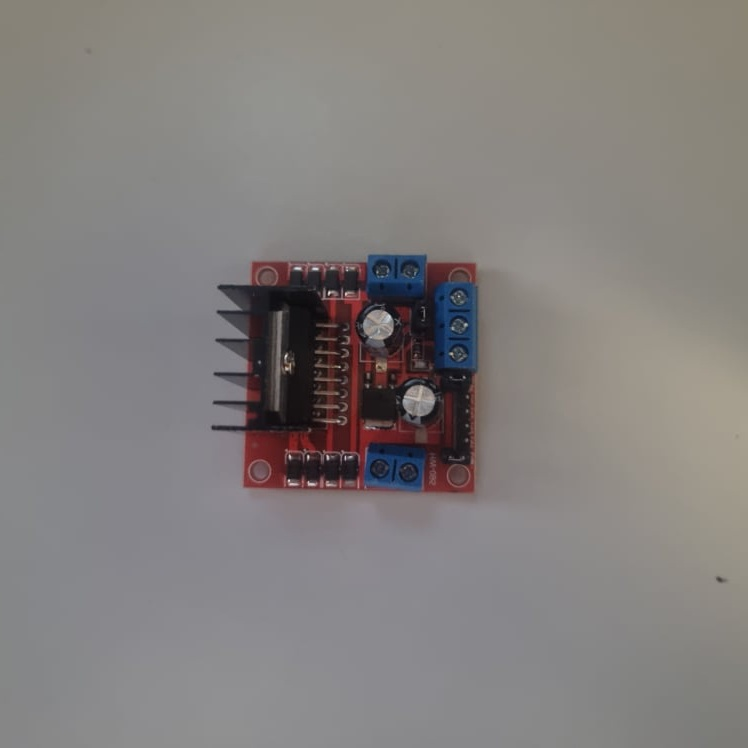MOTOR: (210, 254, 483, 491)
